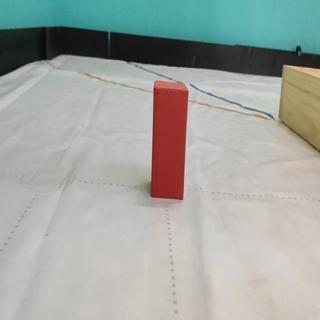redbox: (152, 79, 189, 200)
